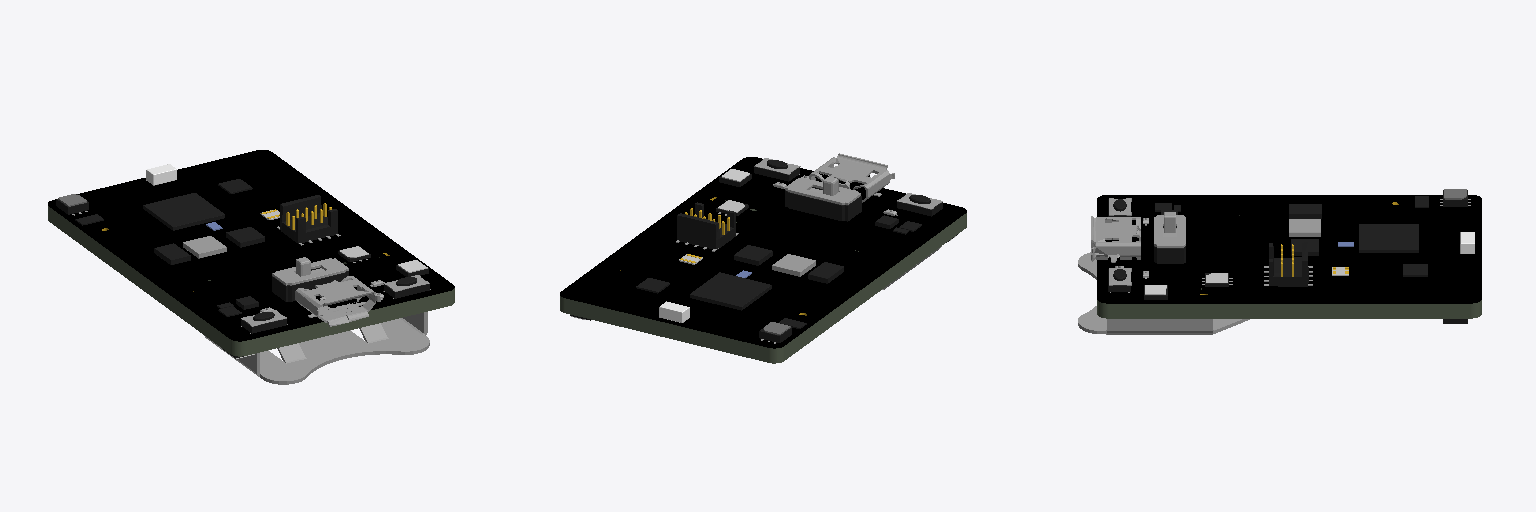
Rendered from TB_Sense_Lowpoly6.obj.
3 views of the same model, side by side, from view 1: azimuth 30°, elevation 25°; view 2: azimuth 150°, elevation 25°; view 3: azimuth 270°, elevation 25° (orthographic).
Visible parts, largest first — view 1: ThunderboardSense_LowPoly BasenotBooleaned5, ThunderboardSense_LowPoly battery_holder_12mm:polySurface1, ThunderboardSense_LowPoly MicroUSB_HDMI:microUSBport1 polySurfac, brd_standalone_update:EFR32_01 ThunderboardSense_LowPoly brd_sta, ThunderboardSense_LowPoly pCube177 Switch pCylinder72, ThunderboardSense_LowPoly group112 polySurface62, brd_standalone_update:EFR32_01 ThunderboardSense_LowPoly, ThunderboardSense_LowPoly group112 polySurface61, ThunderboardSense_LowPoly Switch pCylinder72 pCube178, ThunderboardSense_LowPoly EFR32_07 group51 pCube280; view 2: ThunderboardSense_LowPoly BasenotBooleaned5, ThunderboardSense_LowPoly MicroUSB_HDMI:microUSBport1 polySurfac, ThunderboardSense_LowPoly group112 polySurface61, ThunderboardSense_LowPoly Switch pCylinder72 pCube178, brd_standalone_update:EFR32_01 ThunderboardSense_LowPoly, ThunderboardSense_LowPoly pCube177 Switch pCylinder72, ThunderboardSense_LowPoly EFR32_07 group51 pCube280, brd_standalone_update:EFR32_01 ThunderboardSense_LowPoly brd_sta; view 3: ThunderboardSense_LowPoly BasenotBooleaned5, ThunderboardSense_LowPoly battery_holder_12mm:polySurface1, ThunderboardSense_LowPoly MicroUSB_HDMI:microUSBport1 polySurfac, brd_standalone_update:EFR32_01 ThunderboardSense_LowPoly brd_sta, ThunderboardSense_LowPoly group112 polySurface61, ThunderboardSense_LowPoly pCube177 Switch pCylinder72, ThunderboardSense_LowPoly EFR32_07 group51 pCube280.
Part boxes in pixels (x1,y1,x2,y2): ThunderboardSense_LowPoly BasenotBooleaned5: (48, 150, 454, 356); ThunderboardSense_LowPoly battery_holder_12mm:polySurface1: (204, 312, 429, 384); ThunderboardSense_LowPoly MicroUSB_HDMI:microUSBport1 polySurfac: (295, 276, 380, 326); brd_standalone_update:EFR32_01 ThunderboardSense_LowPoly brd_sta: (143, 193, 224, 230); ThunderboardSense_LowPoly pCube177 Switch pCylinder72: (272, 258, 348, 285); ThunderboardSense_LowPoly group112 polySurface62: (291, 209, 337, 243); brd_standalone_update:EFR32_01 ThunderboardSense_LowPoly: (143, 193, 224, 229); ThunderboardSense_LowPoly group112 polySurface61: (280, 195, 327, 240); ThunderboardSense_LowPoly Switch pCylinder72 pCube178: (272, 267, 348, 301); ThunderboardSense_LowPoly EFR32_07 group51 pCube280: (183, 236, 226, 258); ThunderboardSense_LowPoly BasenotBooleaned5: (560, 157, 966, 363); ThunderboardSense_LowPoly MicroUSB_HDMI:microUSBport1 polySurfac: (809, 153, 894, 202); ThunderboardSense_LowPoly group112 polySurface61: (677, 213, 731, 249); ThunderboardSense_LowPoly Switch pCylinder72 pCube178: (785, 187, 861, 221); brd_standalone_update:EFR32_01 ThunderboardSense_LowPoly: (690, 272, 771, 310); ThunderboardSense_LowPoly pCube177 Switch pCylinder72: (785, 178, 860, 204); ThunderboardSense_LowPoly EFR32_07 group51 pCube280: (772, 254, 815, 276); brd_standalone_update:EFR32_01 ThunderboardSense_LowPoly brd_sta: (691, 272, 770, 309); ThunderboardSense_LowPoly BasenotBooleaned5: (1097, 195, 1481, 318); ThunderboardSense_LowPoly battery_holder_12mm:polySurface1: (1078, 252, 1249, 334); ThunderboardSense_LowPoly MicroUSB_HDMI:microUSBport1 polySurfac: (1091, 216, 1140, 262); brd_standalone_update:EFR32_01 ThunderboardSense_LowPoly brd_sta: (1359, 224, 1418, 252); ThunderboardSense_LowPoly group112 polySurface61: (1278, 242, 1308, 286); ThunderboardSense_LowPoly pCube177 Switch pCylinder72: (1154, 215, 1185, 247); ThunderboardSense_LowPoly EFR32_07 group51 pCube280: (1289, 219, 1320, 236).
Bounding box in the file's own units: 6.92 × 2.29 × 10.85.